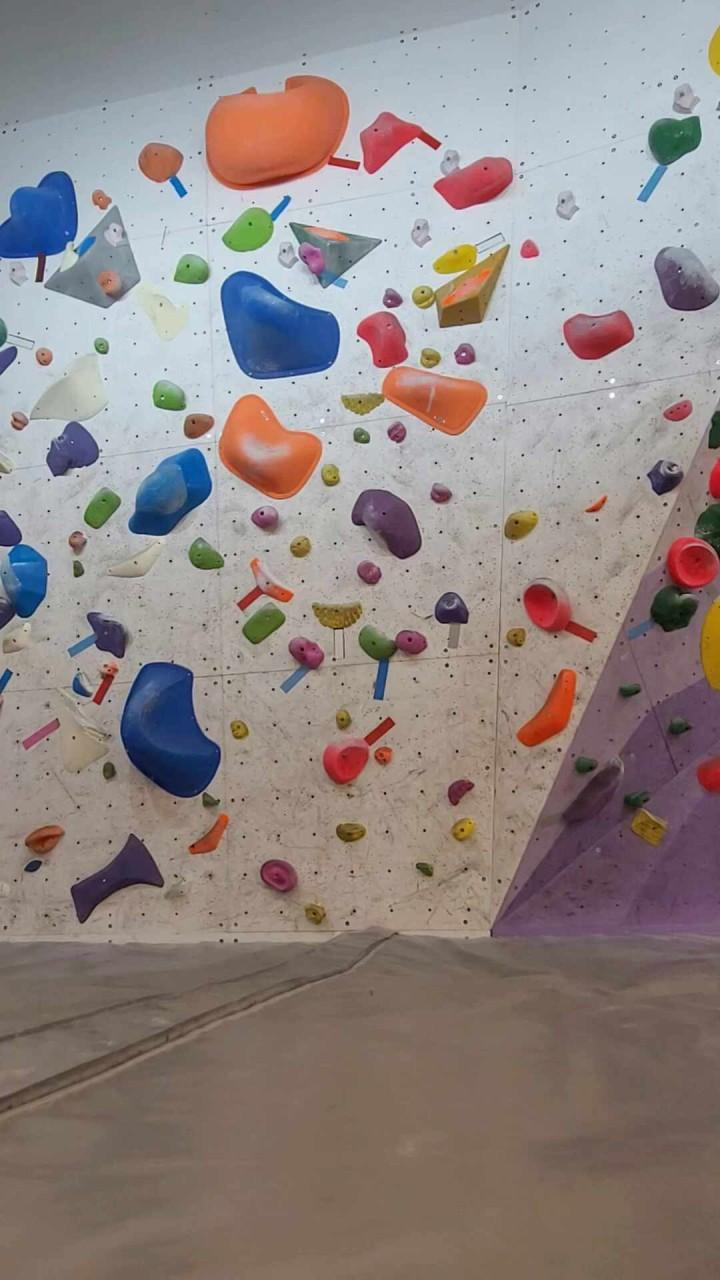hold: (205, 75, 349, 189), (121, 662, 220, 797), (221, 272, 339, 379), (218, 395, 321, 499), (44, 207, 141, 308), (71, 834, 164, 923), (382, 366, 487, 435), (129, 449, 211, 534), (0, 172, 78, 258), (289, 222, 381, 288), (436, 246, 508, 327), (31, 352, 107, 421), (352, 489, 421, 557), (54, 690, 109, 772), (517, 670, 575, 747), (560, 761, 622, 830), (655, 246, 719, 311), (433, 157, 512, 209), (360, 112, 418, 174), (0, 544, 46, 618), (564, 311, 633, 359), (356, 310, 408, 368), (46, 421, 98, 476), (136, 284, 186, 340), (667, 537, 719, 589), (649, 116, 700, 166), (524, 577, 570, 632), (222, 207, 273, 252), (651, 584, 698, 632), (109, 540, 164, 577), (322, 740, 368, 784), (441, 268, 492, 307), (251, 557, 293, 602), (87, 612, 128, 658), (139, 142, 183, 183), (700, 597, 719, 691), (243, 604, 285, 645), (189, 813, 228, 855), (83, 487, 121, 529), (647, 459, 683, 496), (313, 603, 361, 630), (630, 809, 666, 845), (260, 859, 297, 893), (433, 245, 476, 274), (358, 626, 394, 660), (695, 504, 719, 554), (25, 825, 64, 854), (289, 637, 323, 669), (504, 510, 538, 541), (174, 254, 209, 284), (434, 592, 467, 622), (188, 539, 223, 567), (153, 380, 186, 409), (299, 242, 326, 276), (3, 620, 30, 653), (343, 393, 383, 415), (696, 756, 719, 794), (184, 413, 214, 439), (252, 506, 280, 533), (0, 511, 21, 547), (396, 630, 426, 655), (673, 82, 697, 113), (448, 779, 473, 806), (556, 190, 578, 220), (663, 400, 692, 422), (98, 270, 120, 298), (104, 223, 128, 247), (278, 238, 297, 268), (311, 227, 351, 241), (336, 823, 365, 842), (411, 218, 430, 247), (452, 817, 474, 842), (440, 149, 460, 176), (61, 242, 78, 272), (0, 345, 17, 375), (709, 26, 719, 75), (412, 286, 434, 308), (8, 261, 27, 286), (357, 561, 378, 583), (290, 536, 311, 558), (623, 792, 649, 809), (72, 674, 90, 698), (667, 717, 691, 735), (708, 408, 719, 447), (99, 656, 119, 677), (430, 483, 451, 503), (1, 599, 15, 629), (709, 458, 719, 499), (69, 531, 86, 555), (382, 288, 402, 308), (304, 905, 324, 925), (574, 756, 596, 774), (455, 344, 474, 364), (92, 190, 111, 210), (388, 422, 406, 443), (585, 496, 607, 513), (35, 347, 53, 366), (10, 412, 28, 431), (618, 684, 640, 699), (322, 464, 338, 484), (421, 351, 439, 368), (506, 627, 524, 644), (521, 239, 538, 257), (80, 238, 96, 256), (336, 709, 350, 729), (231, 722, 247, 739), (375, 748, 391, 764), (103, 761, 115, 780), (418, 861, 432, 877), (24, 859, 40, 873), (95, 337, 108, 354), (354, 428, 369, 442), (203, 793, 218, 807), (0, 318, 7, 348), (73, 560, 84, 577)
